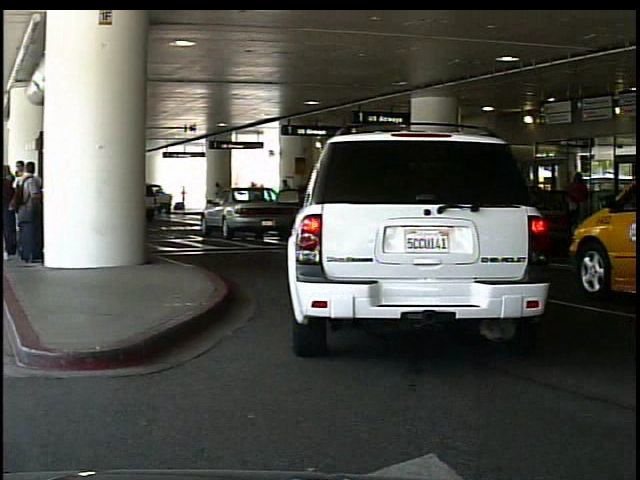person: (564, 167, 593, 205), (215, 177, 228, 211), (181, 183, 189, 210)
